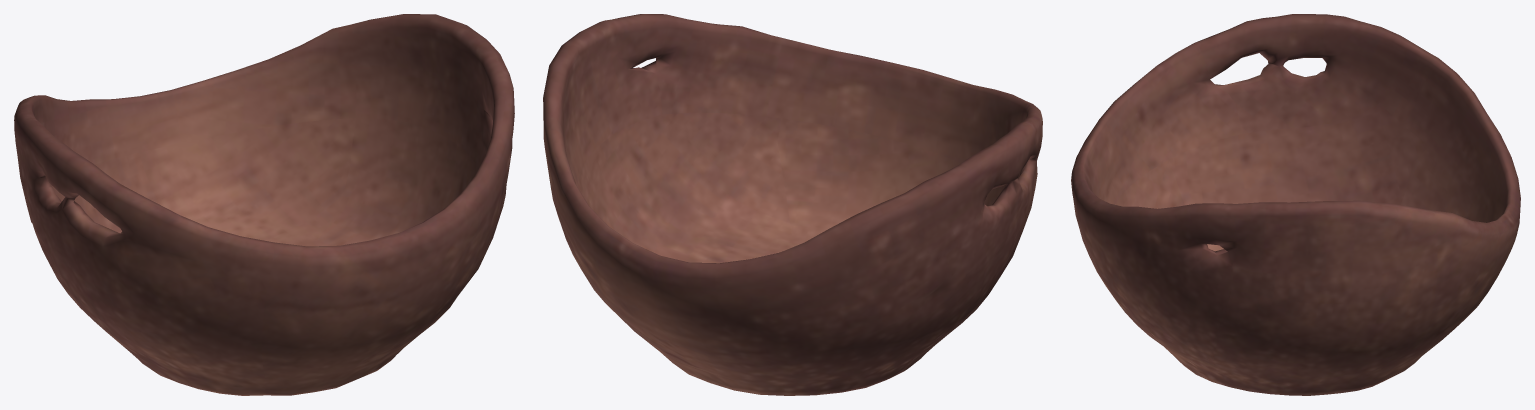
The model's file is wooden_bowl_02.glb.
3 views of the same model, side by side, from view 1: azimuth 30°, elevation 25°; view 2: azimuth 150°, elevation 25°; view 3: azimuth 270°, elevation 25° (orthographic). The views are drawn at different scales.
Parts seen in each view (by area): view 1: wooden_bowl_02; view 2: wooden_bowl_02; view 3: wooden_bowl_02.
Boxes of the visible parts, bbox=[...] form: wooden_bowl_02: bbox=[14, 14, 514, 395]; wooden_bowl_02: bbox=[543, 14, 1042, 395]; wooden_bowl_02: bbox=[1071, 14, 1520, 395].
Bounding box in the file's own units: 0.1307 × 0.0731 × 0.1245.
Materials: 1 (1 with a texture image).
